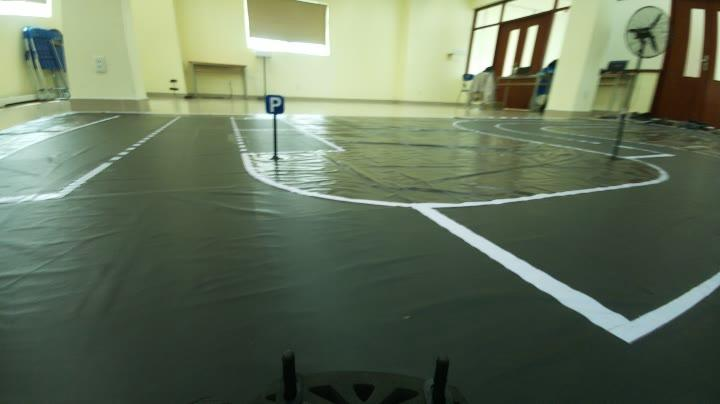parking: (259, 91, 292, 123)
